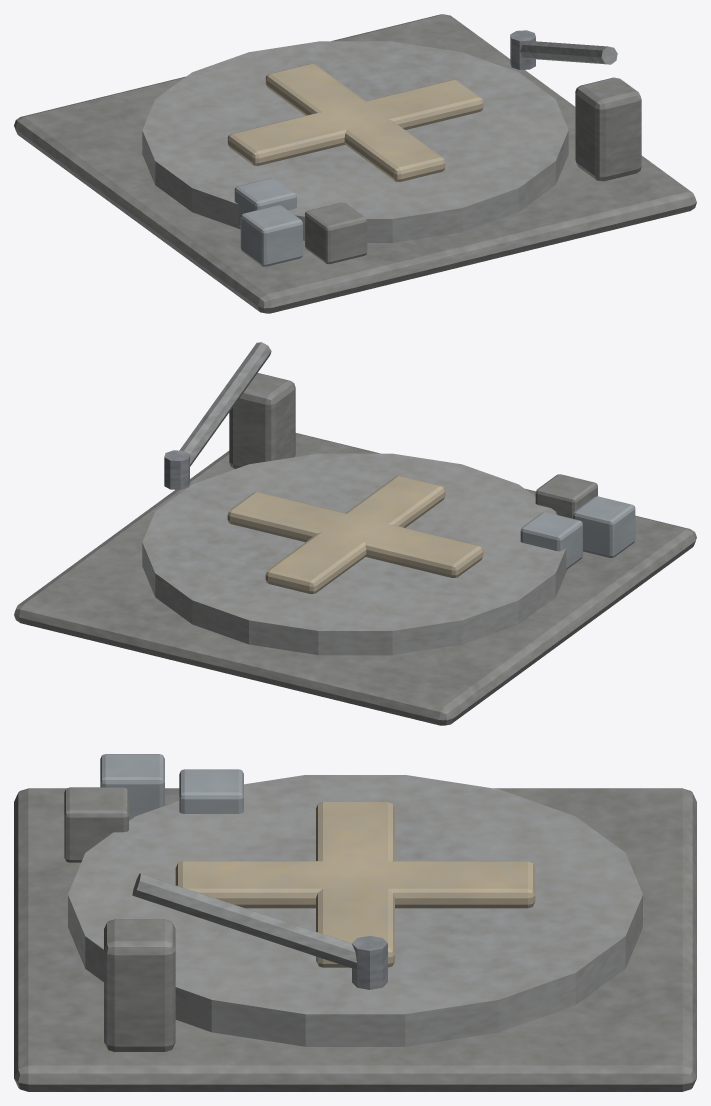
File: com_service_depot.glb
The picture shows the model from 3 angles, top to bottom: view 1: azimuth 30°, elevation 25°; view 2: azimuth 150°, elevation 25°; view 3: azimuth 270°, elevation 25°; orthographic projection. The views are drawn at different scales.
Visible parts, largest first — view 1: com_service_depot; view 2: com_service_depot; view 3: com_service_depot.
Boxes of the visible parts, left/top/right/bottom form: com_service_depot: left=14, top=14, right=696, bottom=313; com_service_depot: left=14, top=342, right=696, bottom=725; com_service_depot: left=14, top=754, right=696, bottom=1091.
Bounding box in the file's own units: 1.9 × 0.5929 × 1.9.
Materials: 1 (1 with a texture image).
